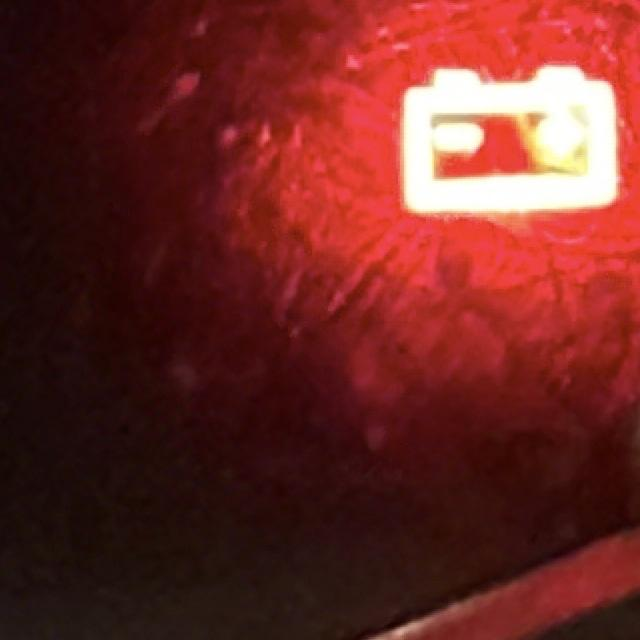Battery Issue: (397, 61, 620, 218)
